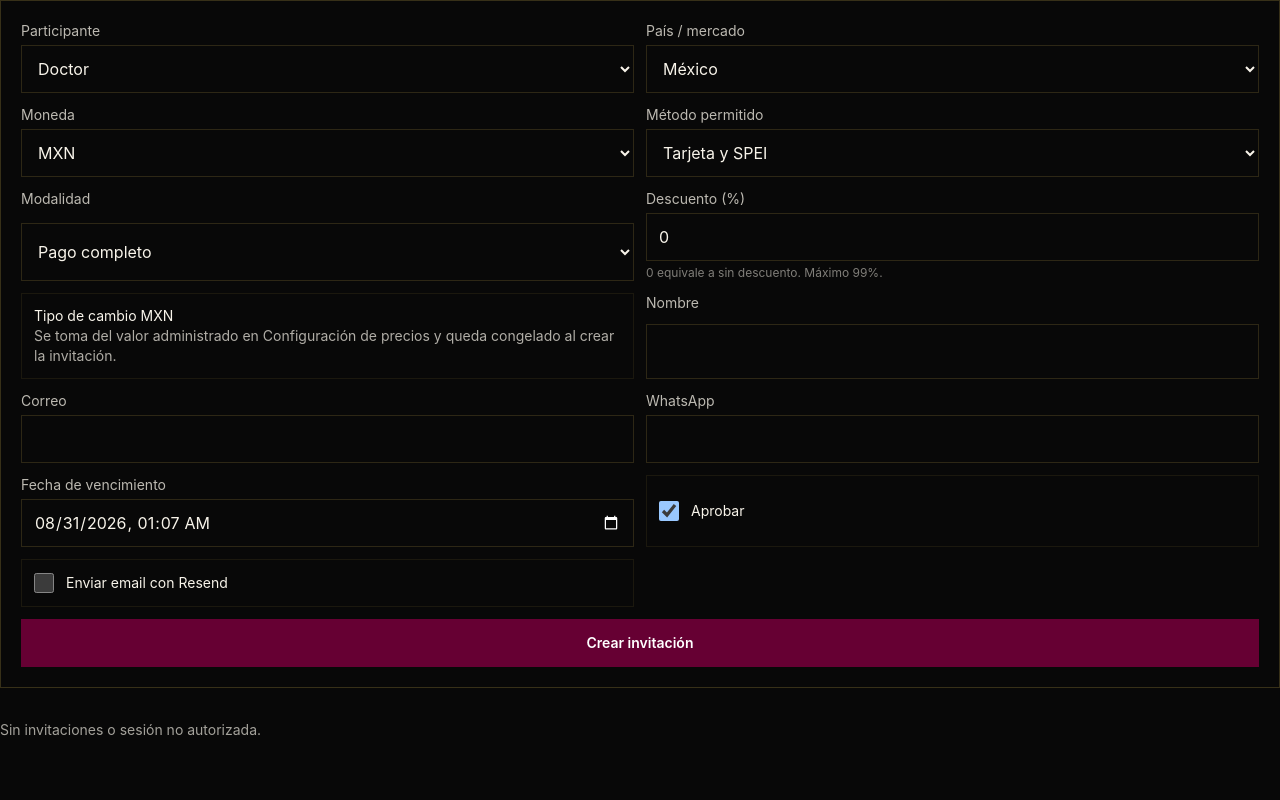
Test: admin components › muestra error de API de tipo de cambio
Type "Dra Test" into the field labelled "Nombre". click: (952, 352)
box: [646, 324, 1259, 379]
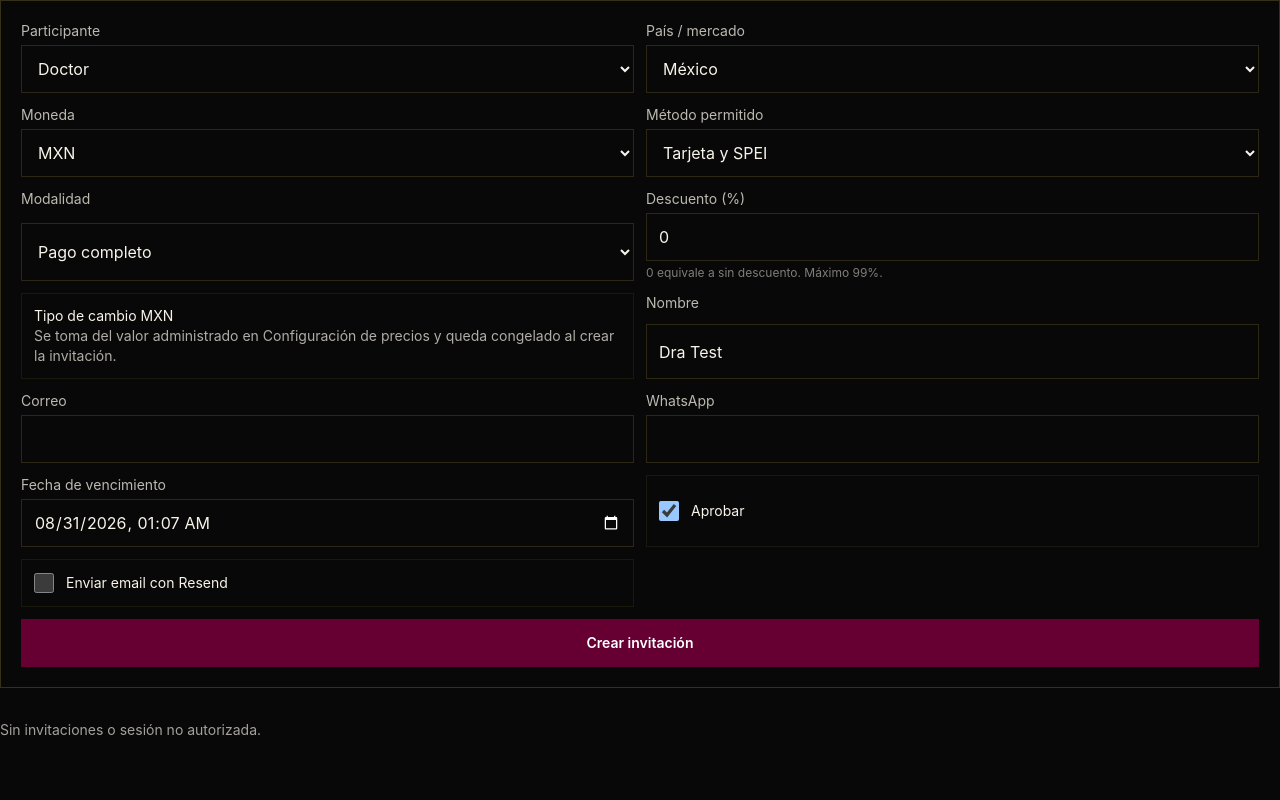
Type "yoanna@example.com" into the field labelled "Correo". click: (328, 439)
box: [21, 415, 634, 463]
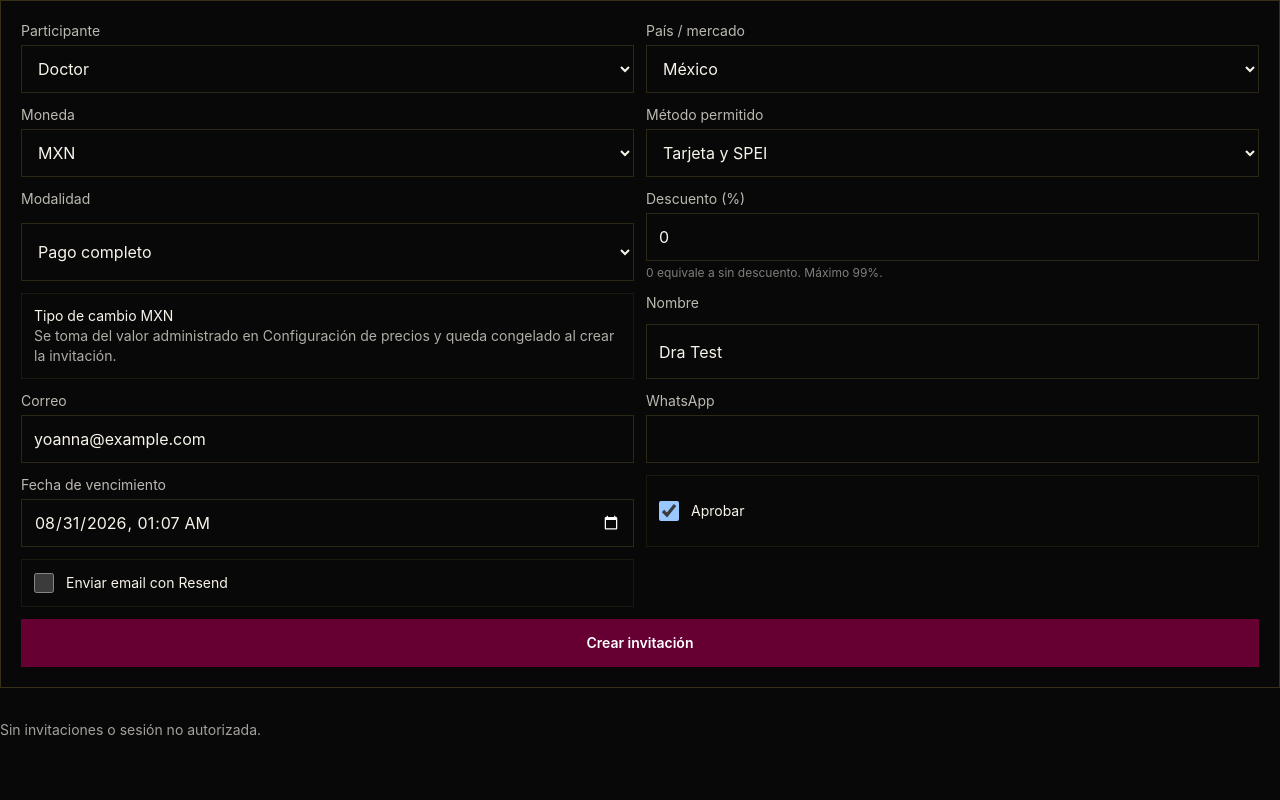
Click the button "Crear invitación". click: click(640, 643)
box: [21, 619, 1259, 667]
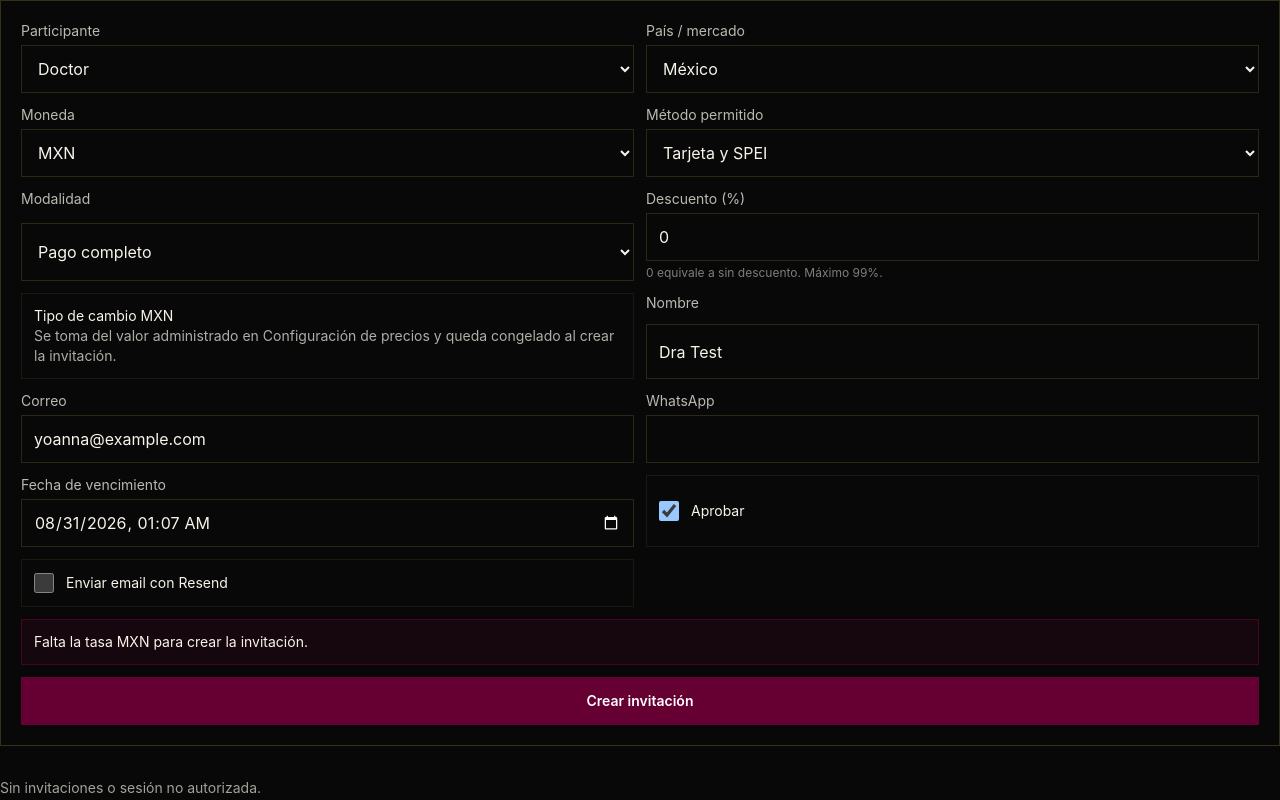
expect the text "Falta la tasa MXN para crear la invitación." is shown: met, box [21, 619, 1259, 665]
